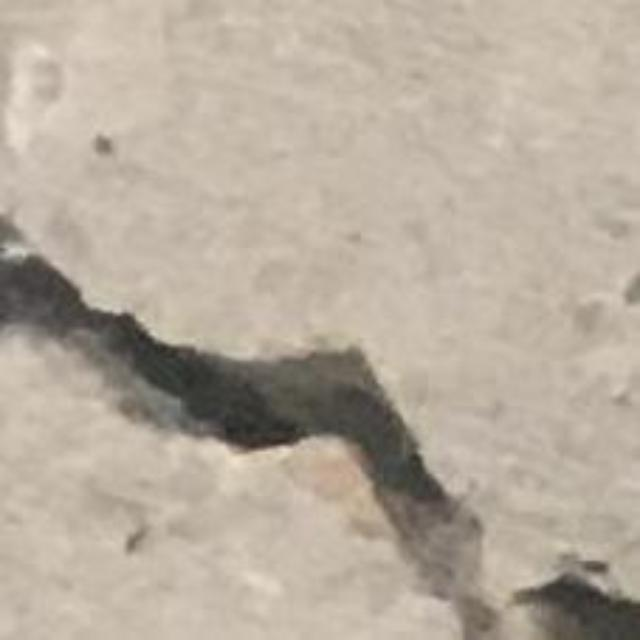crack: (0, 220, 639, 639)
